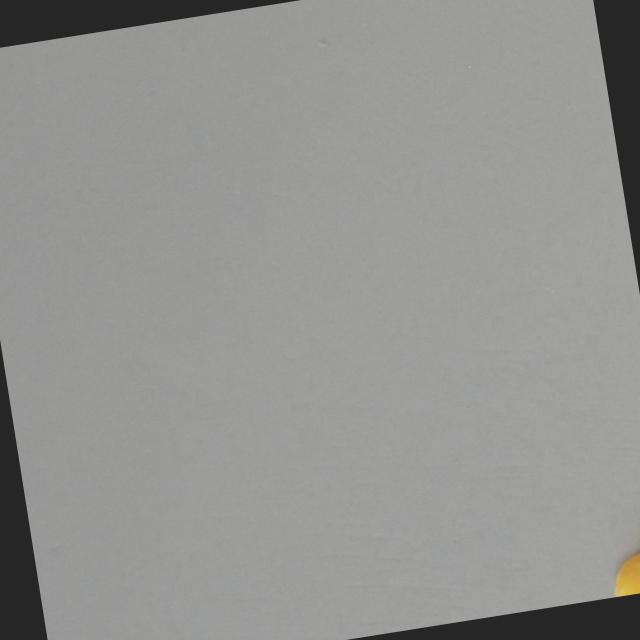pelicula: (610, 546, 640, 597)
